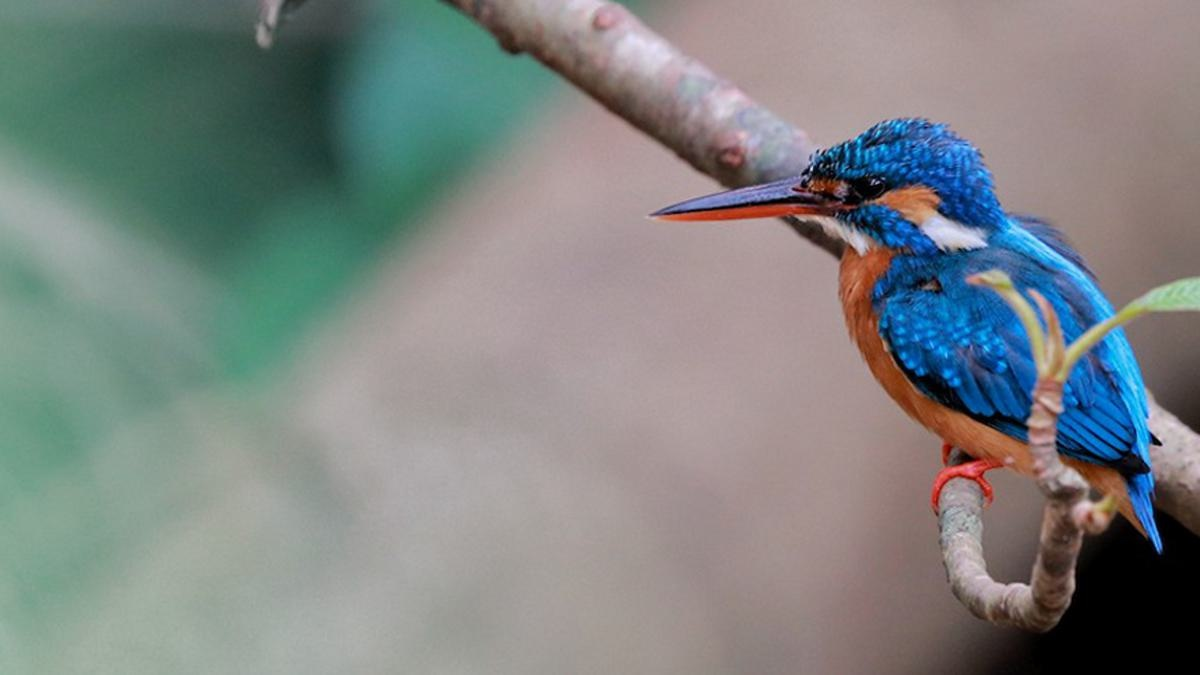kingfisher: (661, 106, 1169, 577)
